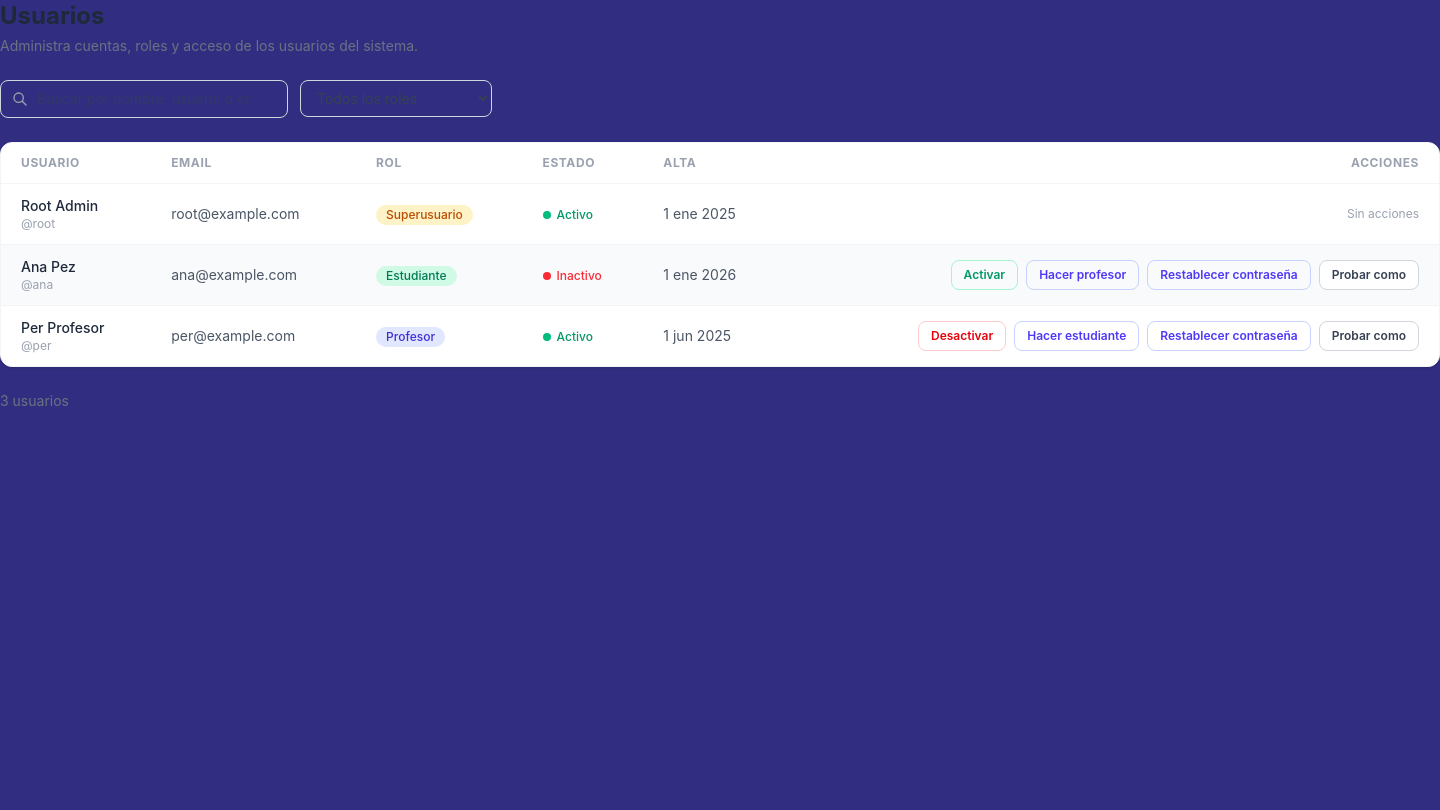
Test: AdminUsersPage › no impersona por duplicado al pulsar el botón interno 'Probar como' (desktop)
Click the button "Probar como" in the row of "Per Profesor". click: (1369, 336)
box: [1319,321,1419,351]
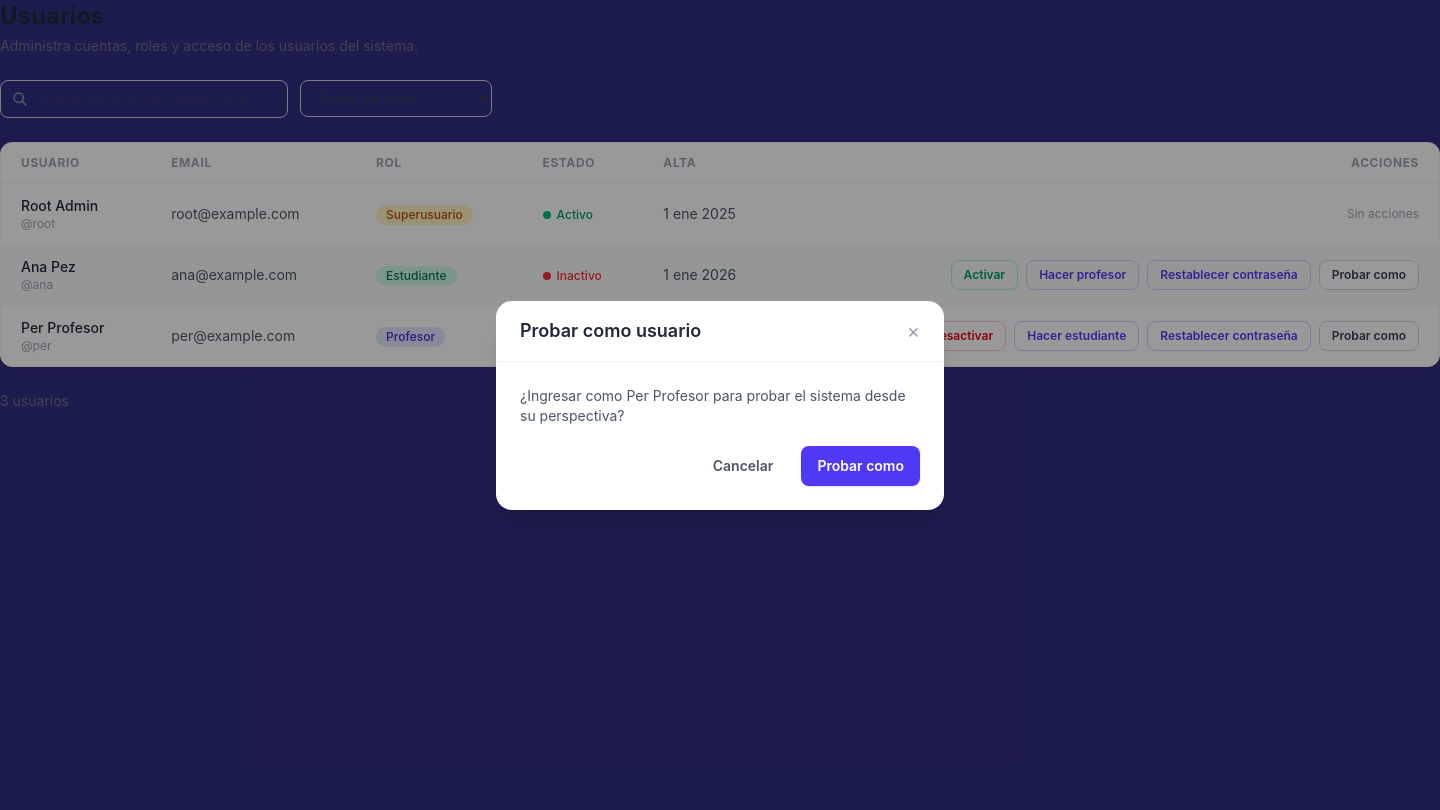
Check: the text "¿Ingresar como Per Profesor" is shown, box [520,386,906,424]
